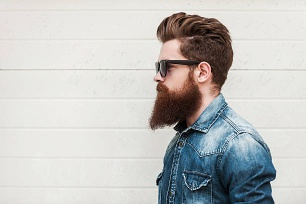male: (153, 31, 197, 104)
